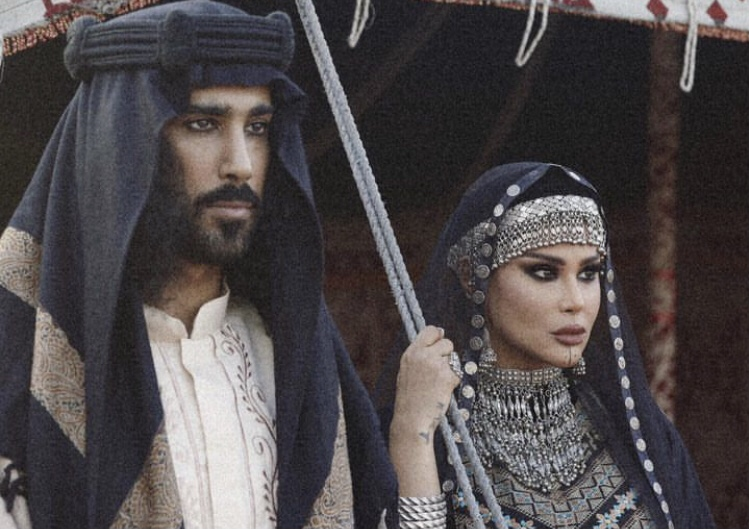Saudi_Founding_Day: (2, 1, 400, 529), (367, 157, 722, 529)
